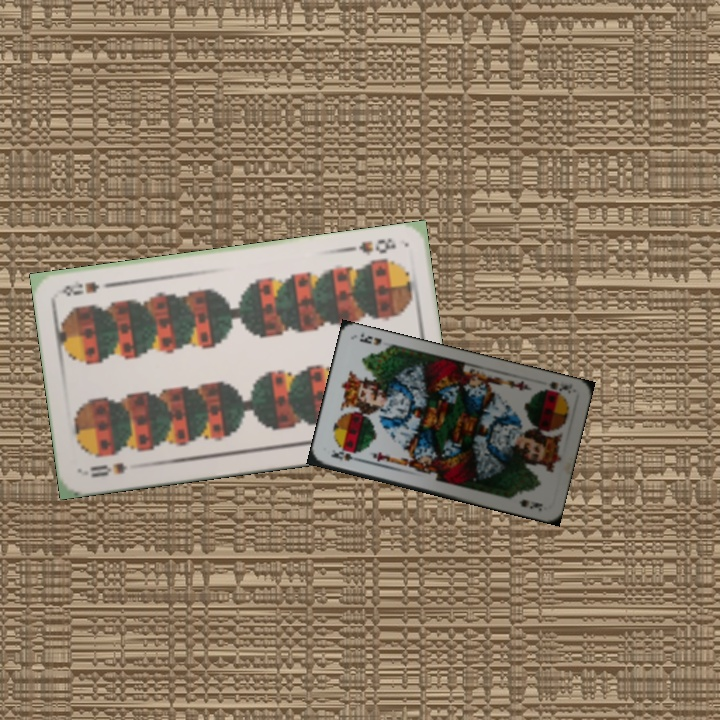S8: (343, 233, 399, 258), (86, 459, 129, 480)
SK: (535, 377, 575, 398), (327, 445, 365, 465)
